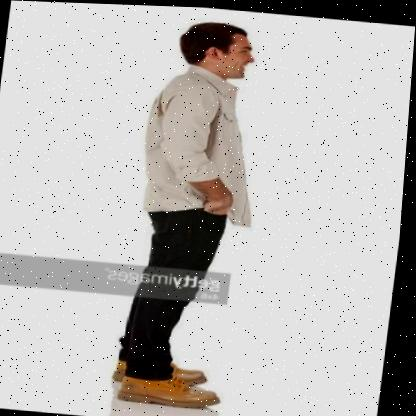person: (98, 15, 272, 416)
